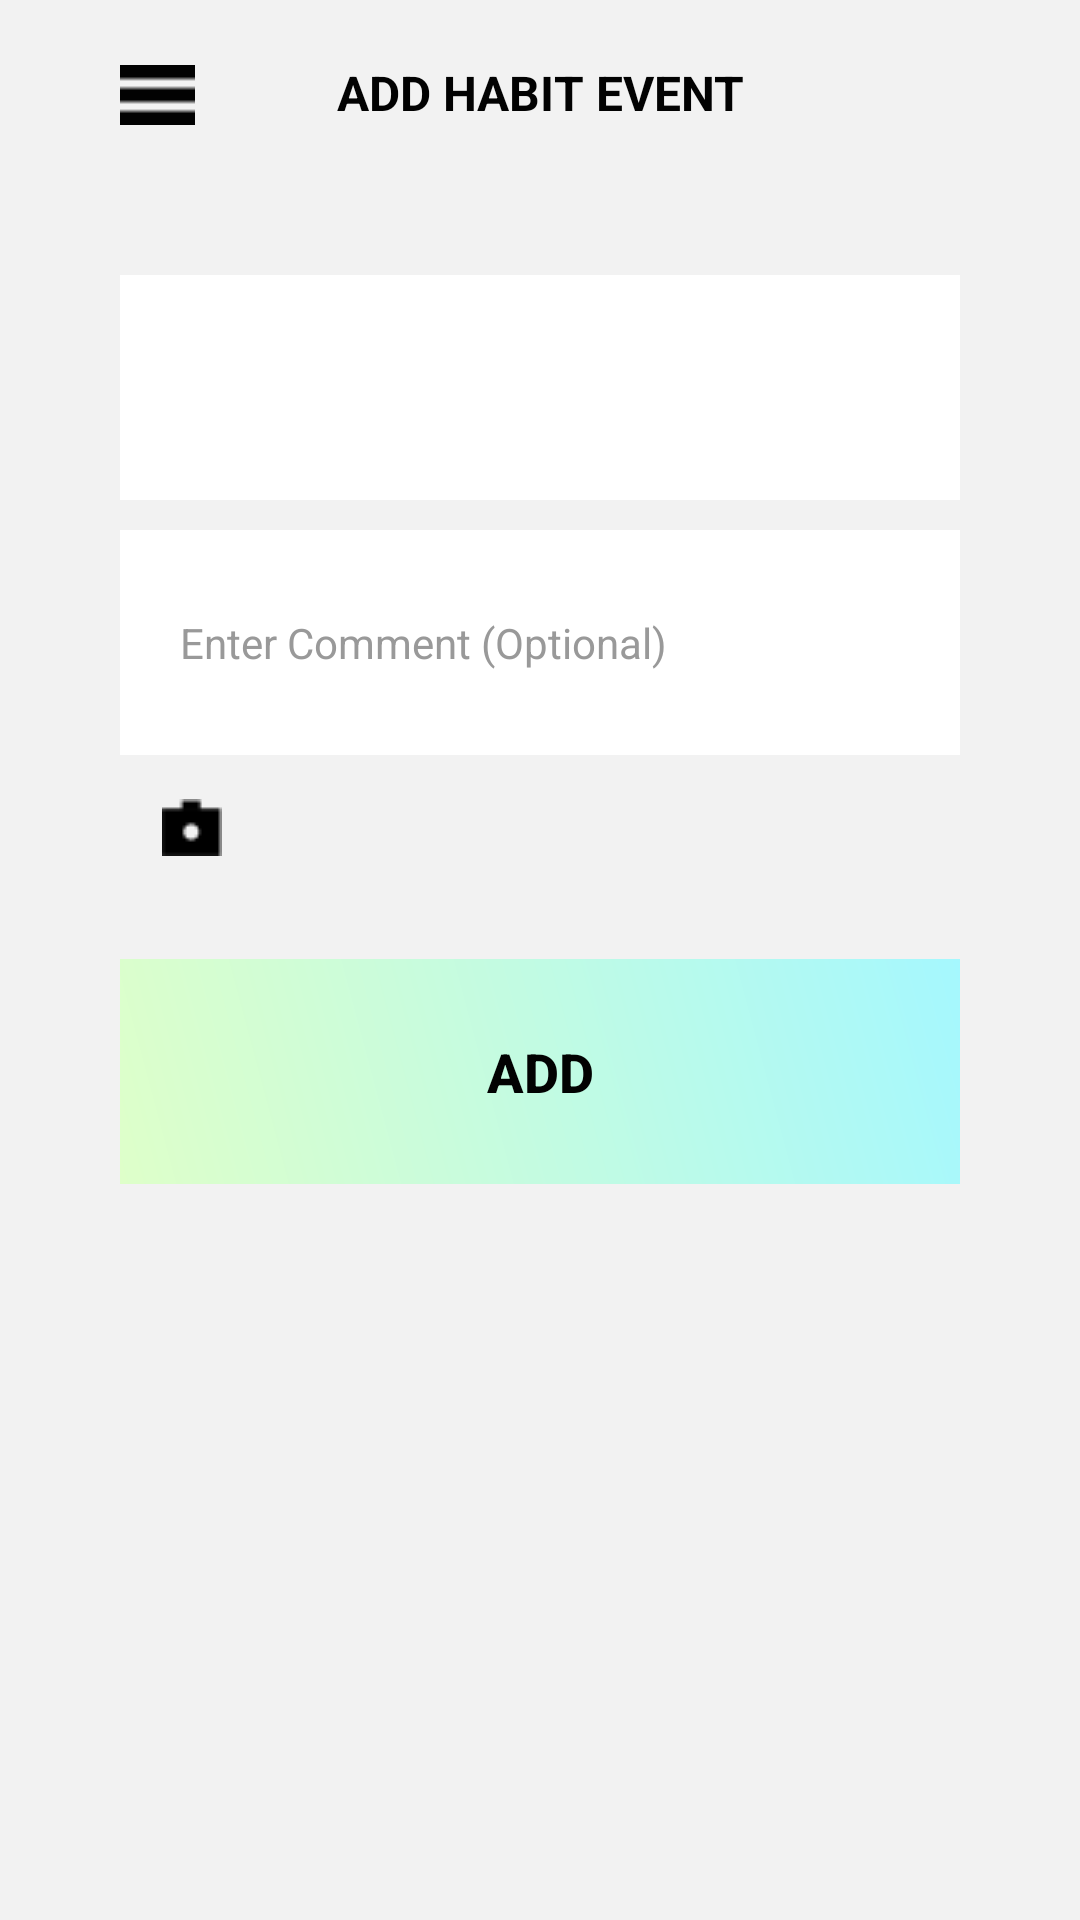

Where to tap for icons on this 1080*1920 app screen, as [x,y]:
menu: [157,95]
